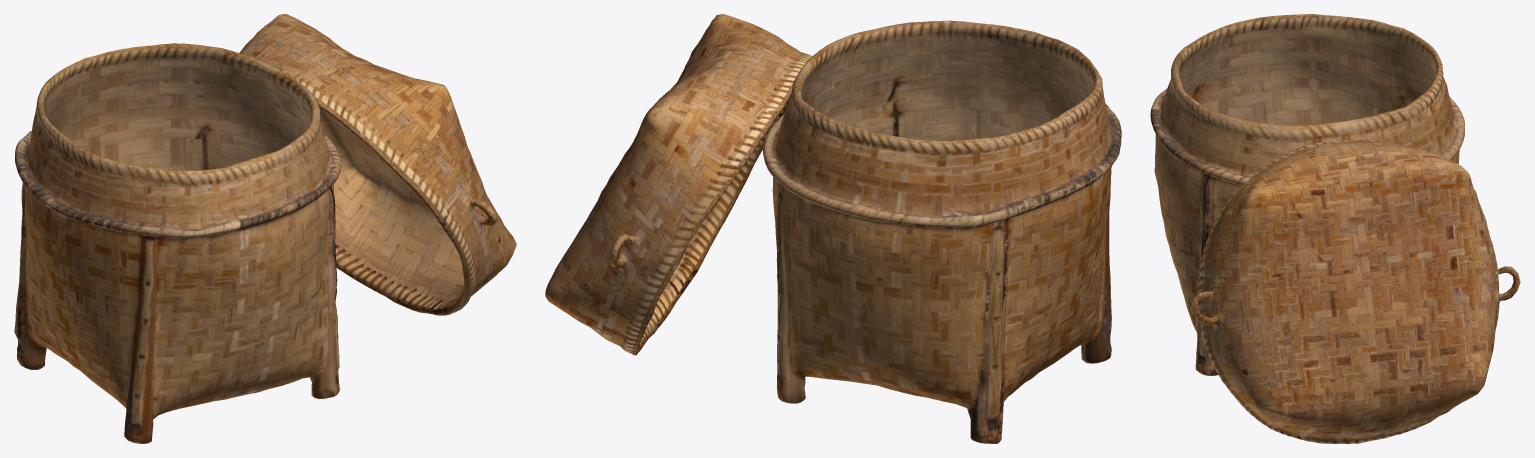
File: wicker-basket-02.glb
The picture shows the model from 3 angles, left to right: view 1: azimuth 30°, elevation 25°; view 2: azimuth 150°, elevation 25°; view 3: azimuth 270°, elevation 25°; orthographic projection. The views are drawn at different scales.
Parts seen in each view (by area): view 1: wicker_basket_02_base, wicker_basket_02_lid; view 2: wicker_basket_02_base, wicker_basket_02_lid; view 3: wicker_basket_02_lid, wicker_basket_02_base.
Part boxes in pixels (x1,y1,x2,y2): wicker_basket_02_base: (14, 43, 341, 443); wicker_basket_02_lid: (239, 14, 516, 315); wicker_basket_02_base: (763, 20, 1121, 443); wicker_basket_02_lid: (545, 14, 811, 355); wicker_basket_02_lid: (1190, 140, 1520, 443); wicker_basket_02_base: (1150, 14, 1464, 375).
Bounding box in the file's own units: 0.3469 × 0.2005 × 0.2545.
1 material, 1 textured.
